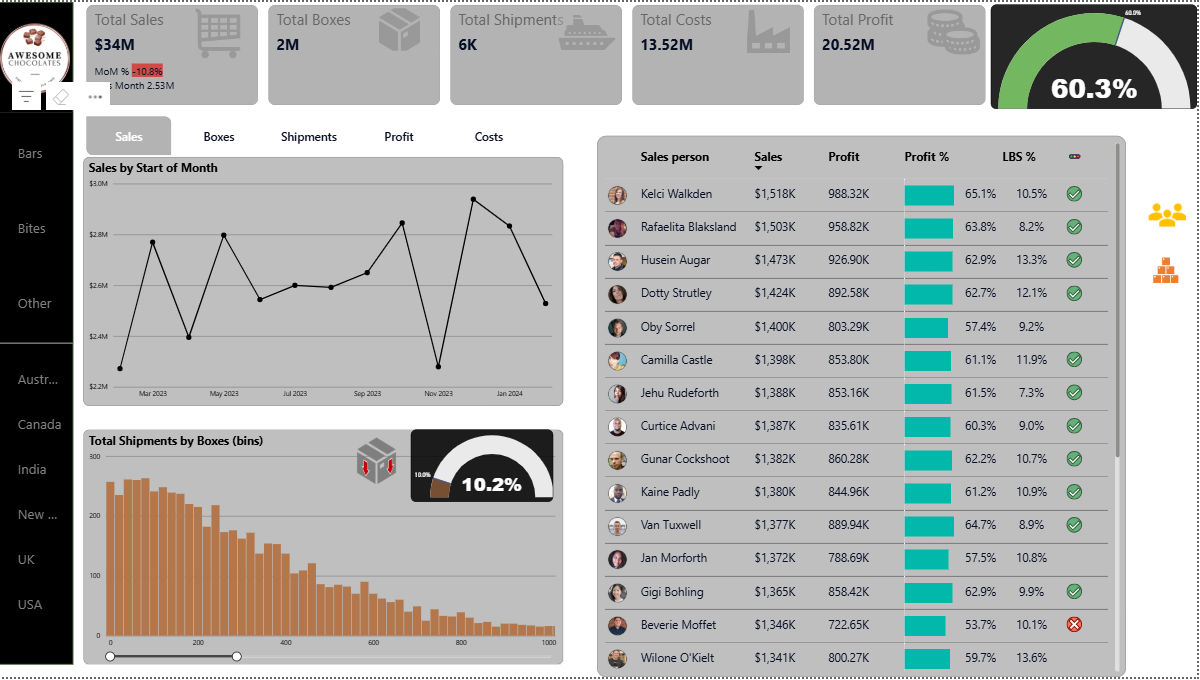

The page's visual inventory and layout, read from the dashboard file:
{"tool":"powerbi","page":{"name":"Page 1","canvas":[1920,1080],"ordinal":0},"visuals":[{"type":"cardVisual","fields":{"Data":["_Measures.Total Sales","_Measures.Total Boxes","_Measures.Total Shipments","_Measures.Total Costs","_Measures.Total Profit"]},"box":[0,0,1590,184],"z":0},{"type":"actionButton","box":[230,10,74,80],"z":1000},{"type":"actionButton","box":[538,10,84,68],"z":2000},{"type":"actionButton","box":[840,10,100,80],"z":3000},{"type":"actionButton","box":[1158,10,100,86],"z":4000},{"type":"actionButton","box":[1480,16,98,80],"z":5000},{"type":"gauge","fields":{"Y":["_Measures.Profit %"]},"box":[1590,0,330,184],"z":6000},{"type":"lineChart","fields":{"Y":["_Measures.Total Costs"],"Category":["calendar.Start of Month"]},"box":[0,248,890,422],"z":7000},{"type":"clusteredColumnChart","fields":{"Category":["shipments.Boxes (bins)"],"Y":["_Measures.Total Shipments"]},"box":[0,684,890,396],"z":7500},{"type":"advancedSlicerVisual","fields":{"Values":["Measure Selector.Measure Selector"]},"box":[22,176,824,76],"z":8000},{"type":"gauge","fields":{"Y":["_Measures.LBS %"]},"box":[662,684,228,116],"z":10500},{"type":"image","box":[552,684,110,100],"z":10501}]}

Visuals, with their boxes on the page's 1920x1080 design canvas (x1, y1, x2, y2). These are canvas units, not pixel positions in the 1200x680 screenshot, which may show the page scaled, cropped or inside an application window:
cardVisual - _Measures.Total Sales x _Measures.Total Boxes: {"left": 0, "top": 0, "right": 1590, "bottom": 184}
actionButton: {"left": 230, "top": 10, "right": 304, "bottom": 90}
actionButton: {"left": 538, "top": 10, "right": 622, "bottom": 78}
actionButton: {"left": 840, "top": 10, "right": 940, "bottom": 90}
actionButton: {"left": 1158, "top": 10, "right": 1258, "bottom": 96}
actionButton: {"left": 1480, "top": 16, "right": 1578, "bottom": 96}
gauge - _Measures.Profit %: {"left": 1590, "top": 0, "right": 1920, "bottom": 184}
lineChart - _Measures.Total Costs x calendar.Start of Month: {"left": 0, "top": 248, "right": 890, "bottom": 670}
clusteredColumnChart - shipments.Boxes (bins) x _Measures.Total Shipments: {"left": 0, "top": 684, "right": 890, "bottom": 1080}
advancedSlicerVisual - Measure Selector.Measure Selector: {"left": 22, "top": 176, "right": 846, "bottom": 252}
gauge - _Measures.LBS %: {"left": 662, "top": 684, "right": 890, "bottom": 800}
image: {"left": 552, "top": 684, "right": 662, "bottom": 784}
